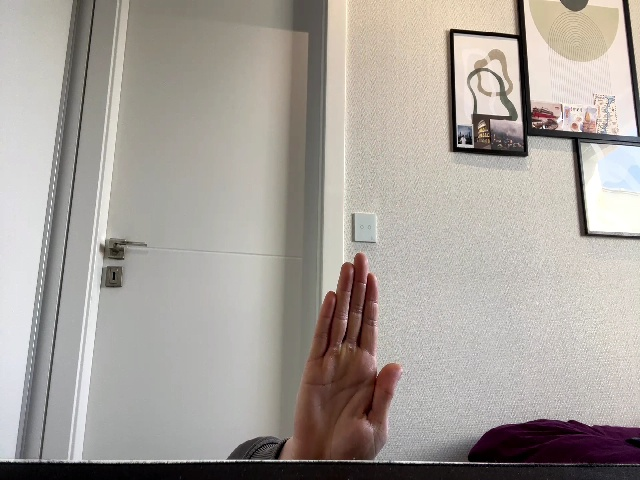B: (295, 253, 403, 461)
